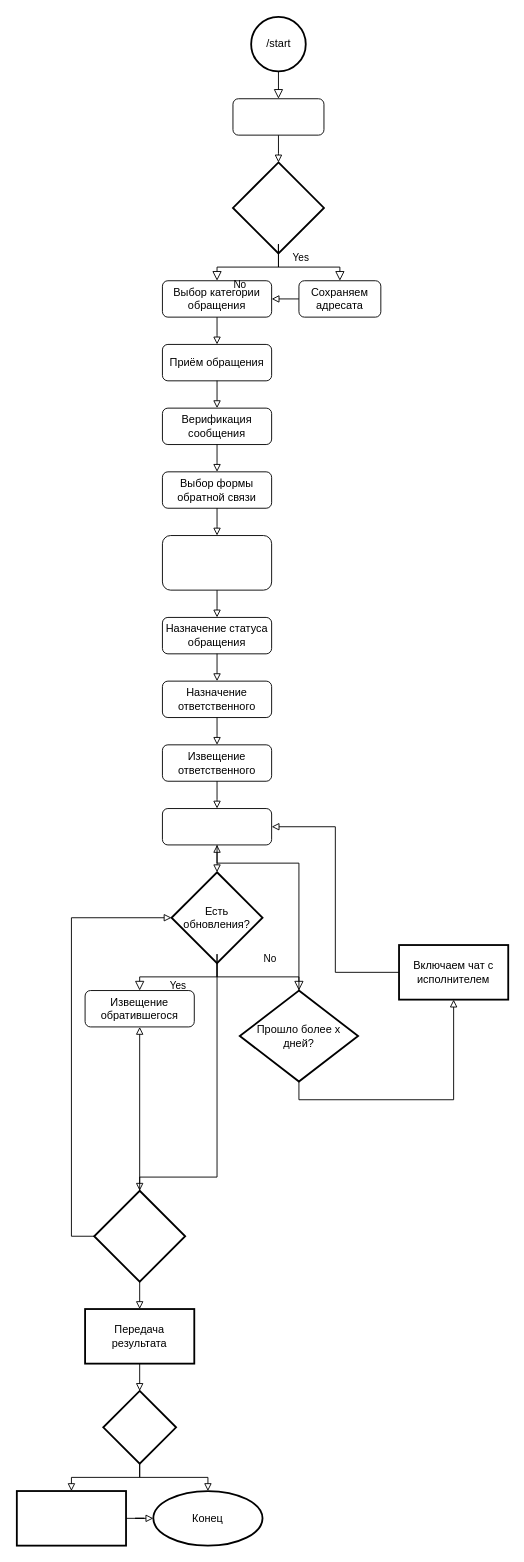
This 524x1562 diagram has some shape labels left out. The centre of each missing label's shape, as x and y in pixels:
"Есть адресат?" goes at pixel 278 207.
"Есть решение?" goes at pixel 139 1235.
"Извещение о регистрации обращения" goes at pixel 217 562.
"Обработка обращения" goes at pixel 217 826.
"Приём отзыва" goes at pixel 70 1518.
"Регистрация обратившегося" goes at pixel 278 116.
"Хотите оставить отзыв?" goes at pixel 139 1427.
